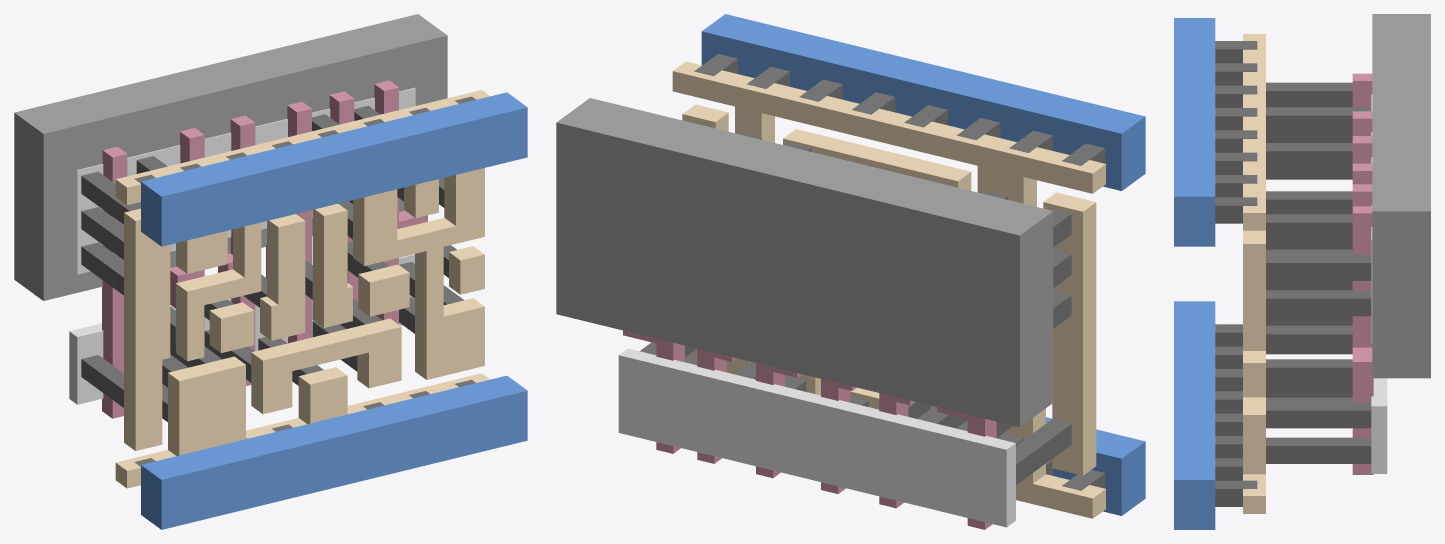
Rendered from sky130_fd_sc_hd__o311a_1.gds.gltf.
3 views of the same model, side by side, from view 1: azimuth 30°, elevation 25°; view 2: azimuth 150°, elevation 25°; view 3: azimuth 270°, elevation 25° (orthographic). The views are drawn at different scales.
Visible parts, largest first — view 1: sky130_fd_sc_hd__o311a_1_li1, sky130_fd_sc_hd__o311a_1_met1, sky130_fd_sc_hd__o311a_1_nwell, sky130_fd_sc_hd__o311a_1_licon, sky130_fd_sc_hd__o311a_1_poly, sky130_fd_sc_hd__o311a_1_diff, sky130_fd_sc_hd__o311a_1_mcon; view 2: sky130_fd_sc_hd__o311a_1_nwell, sky130_fd_sc_hd__o311a_1_li1, sky130_fd_sc_hd__o311a_1_diff, sky130_fd_sc_hd__o311a_1_met1, sky130_fd_sc_hd__o311a_1_licon, sky130_fd_sc_hd__o311a_1_mcon, sky130_fd_sc_hd__o311a_1_poly; view 3: sky130_fd_sc_hd__o311a_1_licon, sky130_fd_sc_hd__o311a_1_nwell, sky130_fd_sc_hd__o311a_1_met1, sky130_fd_sc_hd__o311a_1_mcon, sky130_fd_sc_hd__o311a_1_li1, sky130_fd_sc_hd__o311a_1_poly, sky130_fd_sc_hd__o311a_1_diff.
Part boxes in pixels (box(x1,y1,x2,y2)): sky130_fd_sc_hd__o311a_1_li1: box(115, 90, 489, 488); sky130_fd_sc_hd__o311a_1_met1: box(141, 92, 527, 529); sky130_fd_sc_hd__o311a_1_nwell: box(14, 14, 447, 300); sky130_fd_sc_hd__o311a_1_licon: box(81, 105, 463, 421); sky130_fd_sc_hd__o311a_1_poly: box(102, 80, 427, 418); sky130_fd_sc_hd__o311a_1_diff: box(69, 87, 415, 404); sky130_fd_sc_hd__o311a_1_mcon: box(134, 96, 475, 466); sky130_fd_sc_hd__o311a_1_nwell: box(556, 98, 1053, 427); sky130_fd_sc_hd__o311a_1_li1: box(672, 61, 1105, 518); sky130_fd_sc_hd__o311a_1_diff: box(618, 348, 1015, 527); sky130_fd_sc_hd__o311a_1_met1: box(701, 14, 1145, 515); sky130_fd_sc_hd__o311a_1_licon: box(640, 133, 1071, 484); sky130_fd_sc_hd__o311a_1_mcon: box(694, 54, 1105, 490); sky130_fd_sc_hd__o311a_1_poly: box(623, 330, 996, 529); sky130_fd_sc_hd__o311a_1_licon: box(1266, 82, 1371, 463); sky130_fd_sc_hd__o311a_1_nwell: box(1372, 14, 1430, 378); sky130_fd_sc_hd__o311a_1_met1: box(1174, 18, 1215, 529); sky130_fd_sc_hd__o311a_1_mcon: box(1215, 41, 1257, 506); sky130_fd_sc_hd__o311a_1_li1: box(1243, 34, 1265, 513); sky130_fd_sc_hd__o311a_1_poly: box(1352, 73, 1373, 474); sky130_fd_sc_hd__o311a_1_diff: box(1371, 94, 1387, 473).
Bounding box in the file's own units: 4.06 × 3.2 × 2.24.
